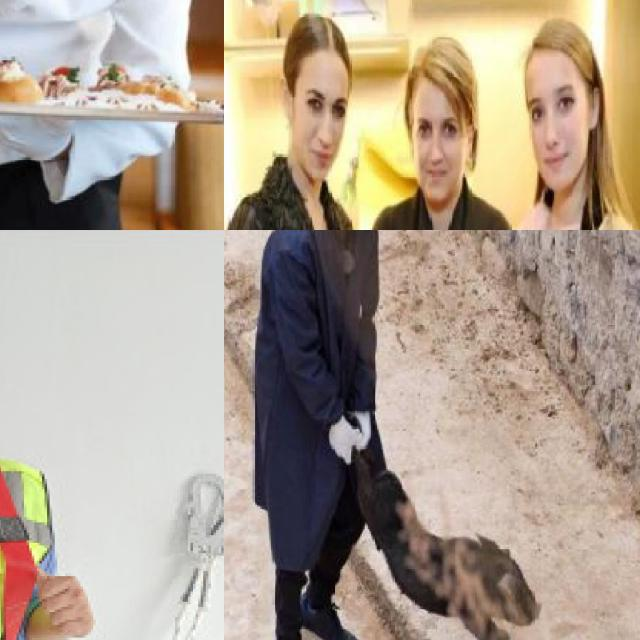face_nomask: (526, 81, 590, 193), (290, 72, 350, 175), (410, 101, 460, 205)
hand_glove: (0, 107, 74, 164), (328, 420, 355, 465), (348, 403, 371, 451)
head_nohelmet: (517, 18, 614, 82), (407, 36, 472, 104), (284, 13, 352, 77)
person: (261, 230, 421, 640), (224, 9, 395, 230), (501, 7, 640, 230), (380, 34, 507, 230)
shoes: (287, 584, 366, 640)
